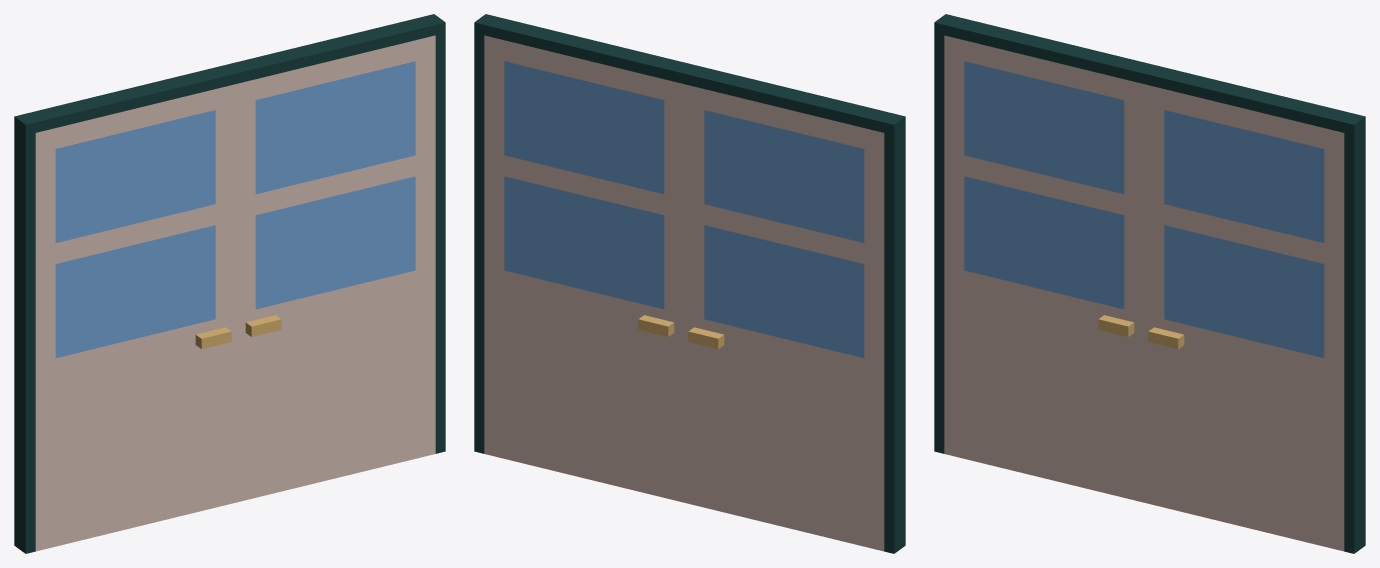
File: Door03.gltf
3 views of the same model, side by side, from view 1: azimuth 30°, elevation 25°; view 2: azimuth 150°, elevation 25°; view 3: azimuth 330°, elevation 25° (orthographic).
Parts seen in each view (by area): view 1: DoorA, DoorB, Frame, DoorA-WinB, DoorB-WinB, DoorA-WinA, DoorB-WinA; view 2: DoorA, DoorB, Frame, DoorA-WinB, DoorB-WinB, DoorA-WinA, DoorB-WinA; view 3: DoorB, DoorA, Frame, DoorA-WinB, DoorB-WinB, DoorB-WinA, DoorA-WinA.
Boxes of the visible parts, <box> form: DoorA: <box>35,84,235,551</box>; DoorB: <box>235,35,435,502</box>; Frame: <box>14,14,445,553</box>; DoorA-WinB: <box>55,225,215,357</box>; DoorB-WinB: <box>255,176,415,309</box>; DoorA-WinA: <box>55,110,215,242</box>; DoorB-WinA: <box>255,61,415,194</box>; DoorA: <box>684,84,884,551</box>; DoorB: <box>484,35,684,502</box>; Frame: <box>474,14,905,553</box>; DoorA-WinB: <box>704,225,864,357</box>; DoorB-WinB: <box>504,176,664,309</box>; DoorA-WinA: <box>704,110,864,242</box>; DoorB-WinA: <box>504,61,664,194</box>; DoorB: <box>1144,84,1344,551</box>; DoorA: <box>944,35,1144,502</box>; Frame: <box>934,14,1365,553</box>; DoorA-WinB: <box>964,176,1124,309</box>; DoorB-WinB: <box>1164,225,1324,357</box>; DoorB-WinA: <box>1164,110,1324,242</box>; DoorA-WinA: <box>964,61,1124,194</box>.
Bounding box in the file's own units: 42 × 41 × 4.
